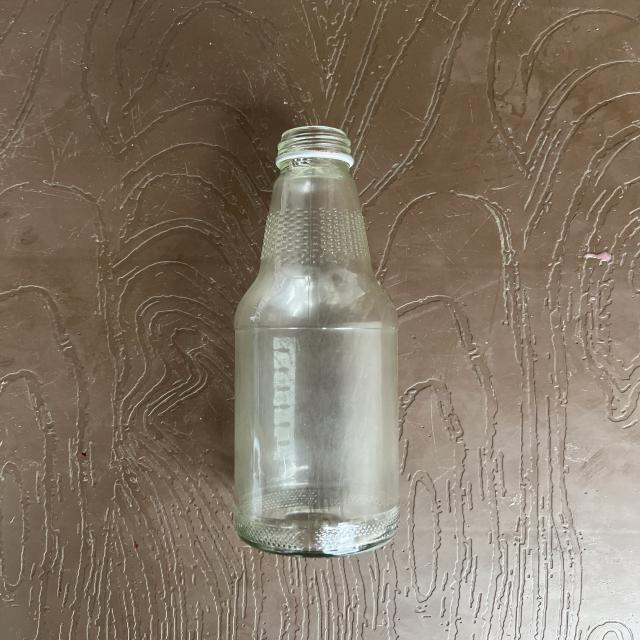Glass_Bottle: (234, 126, 398, 556)
